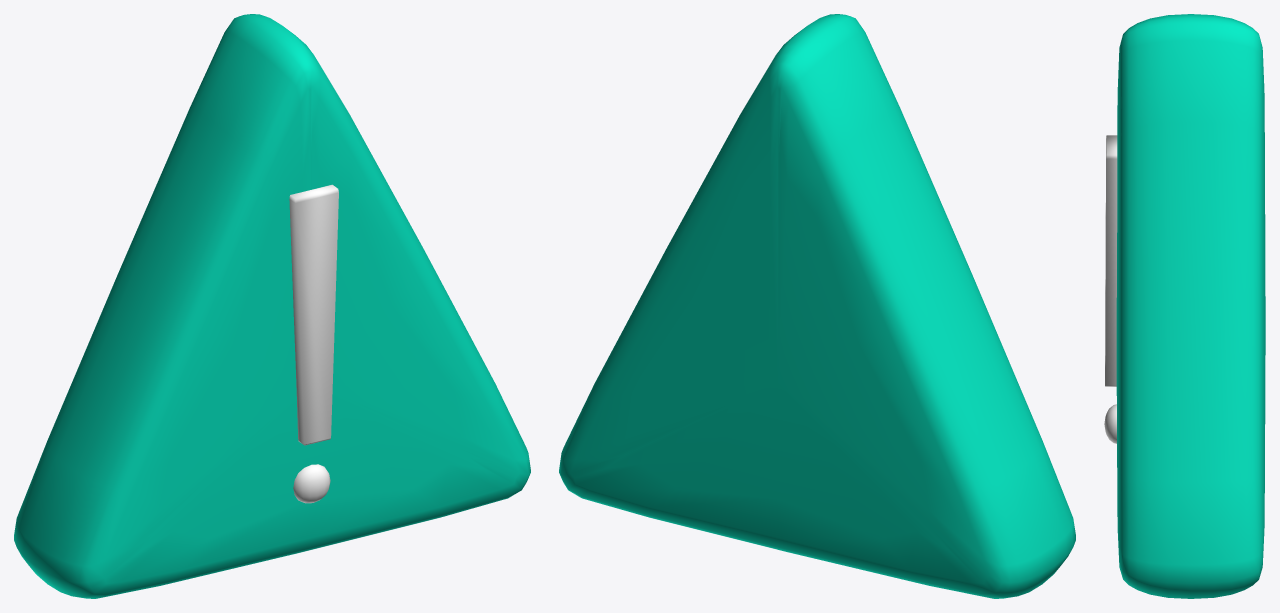
The model's file is green_triangle.glb.
3 views of the same model, side by side, from view 1: azimuth 30°, elevation 25°; view 2: azimuth 150°, elevation 25°; view 3: azimuth 270°, elevation 25° (orthographic). The views are drawn at different scales.
Parts seen in each view (by area): view 1: 青三角, 感叹号.001; view 2: 青三角; view 3: 青三角, 感叹号.001.
Part boxes in pixels (x1,y1,x2,y2): 青三角: [14, 14, 530, 598]; 感叹号.001: [289, 184, 338, 503]; 青三角: [559, 14, 1075, 598]; 青三角: [1116, 14, 1265, 598]; 感叹号.001: [1104, 135, 1117, 443].
Bounding box in the file's own units: 1.46 × 1.5 × 0.4501.
